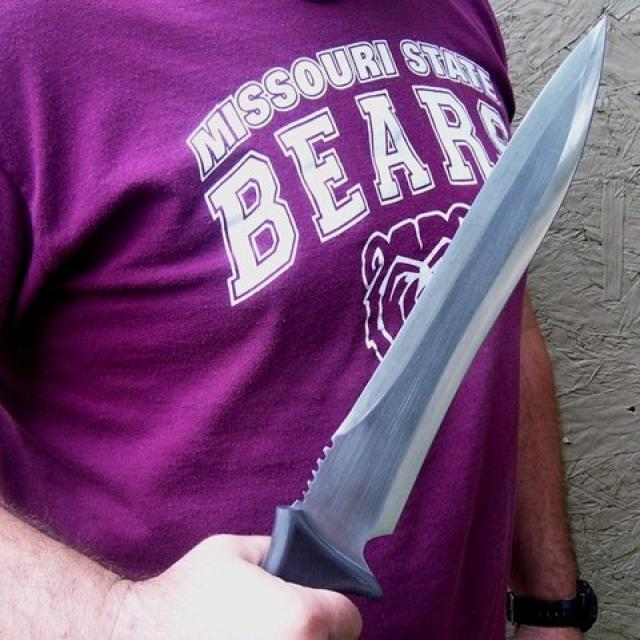knife: (276, 14, 613, 606)
